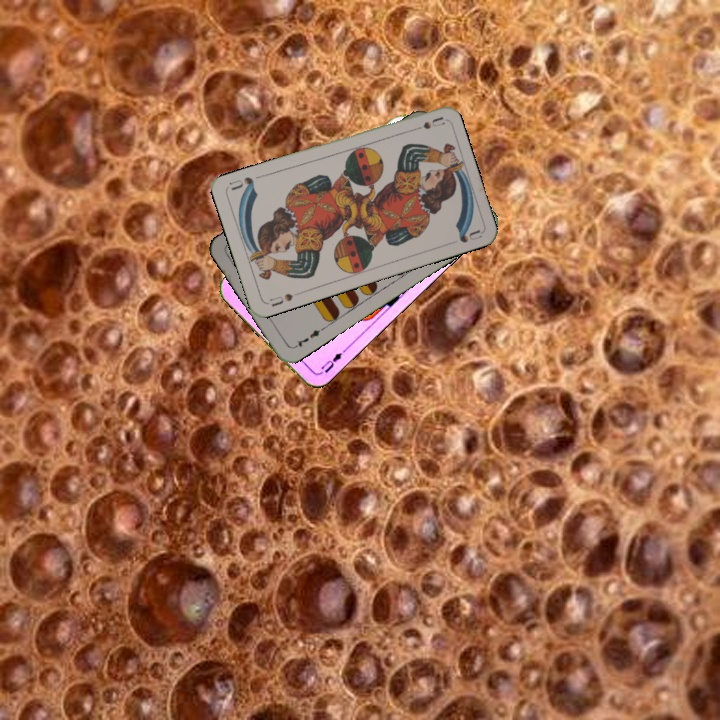E7: (290, 324, 326, 351)
EU: (317, 345, 348, 376)
SU: (405, 113, 446, 135), (266, 288, 302, 310)
